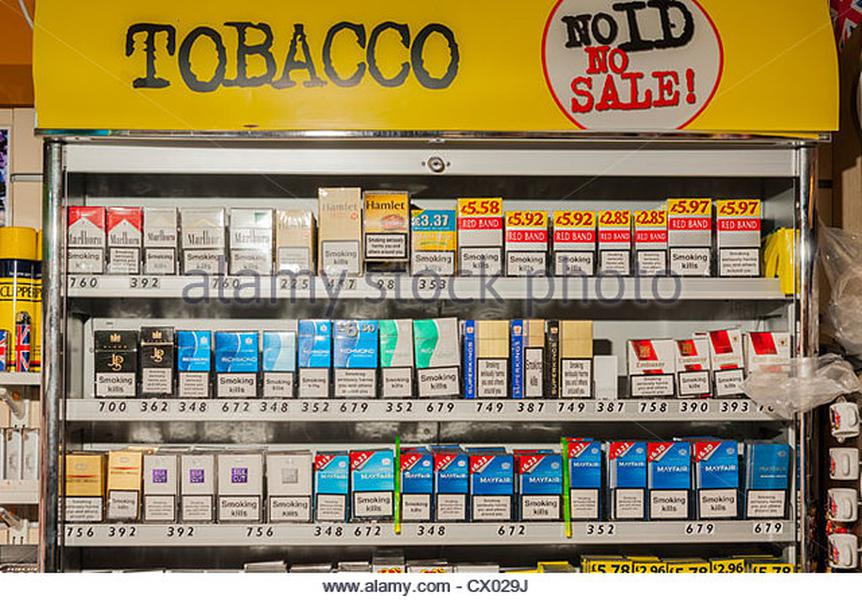marlboro_gold: (182, 207, 223, 276), (143, 209, 177, 274)
marlboro_red: (67, 209, 105, 274), (107, 209, 143, 276)
